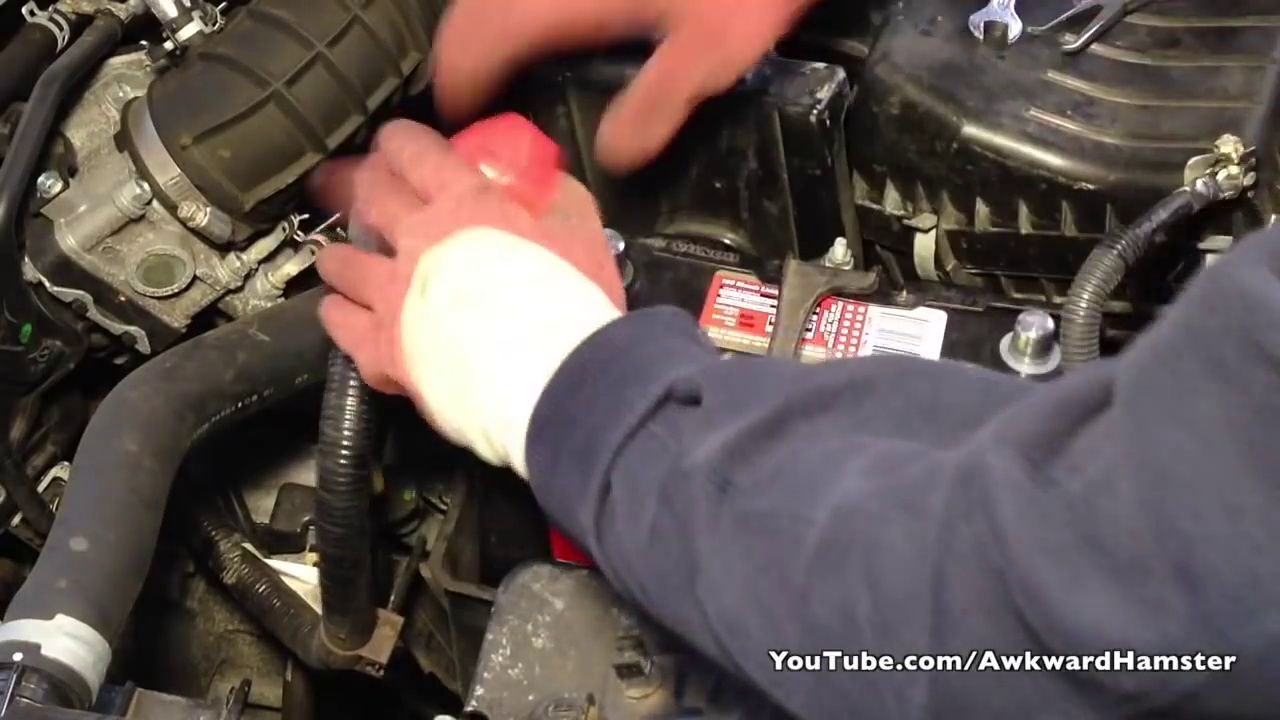battery: (522, 202, 1085, 429)
